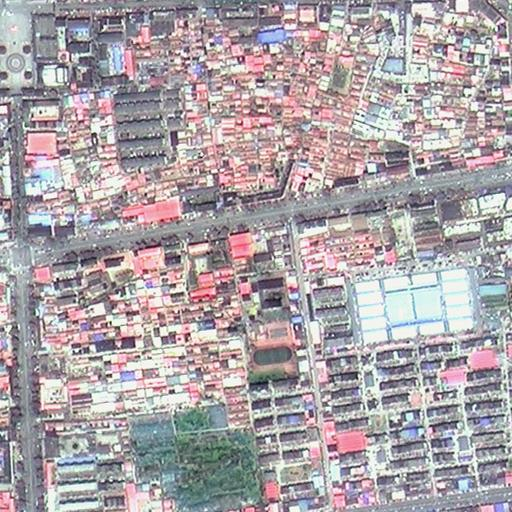school: (249, 318, 296, 378)
